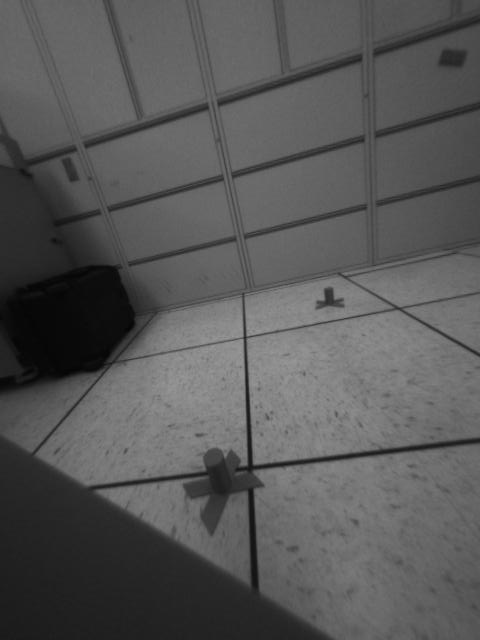X: (182, 446, 264, 539), (312, 286, 348, 310)
